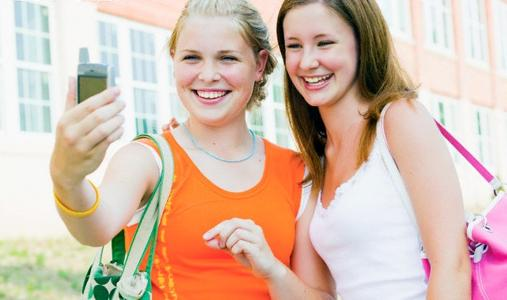person: (49, 2, 335, 300)
